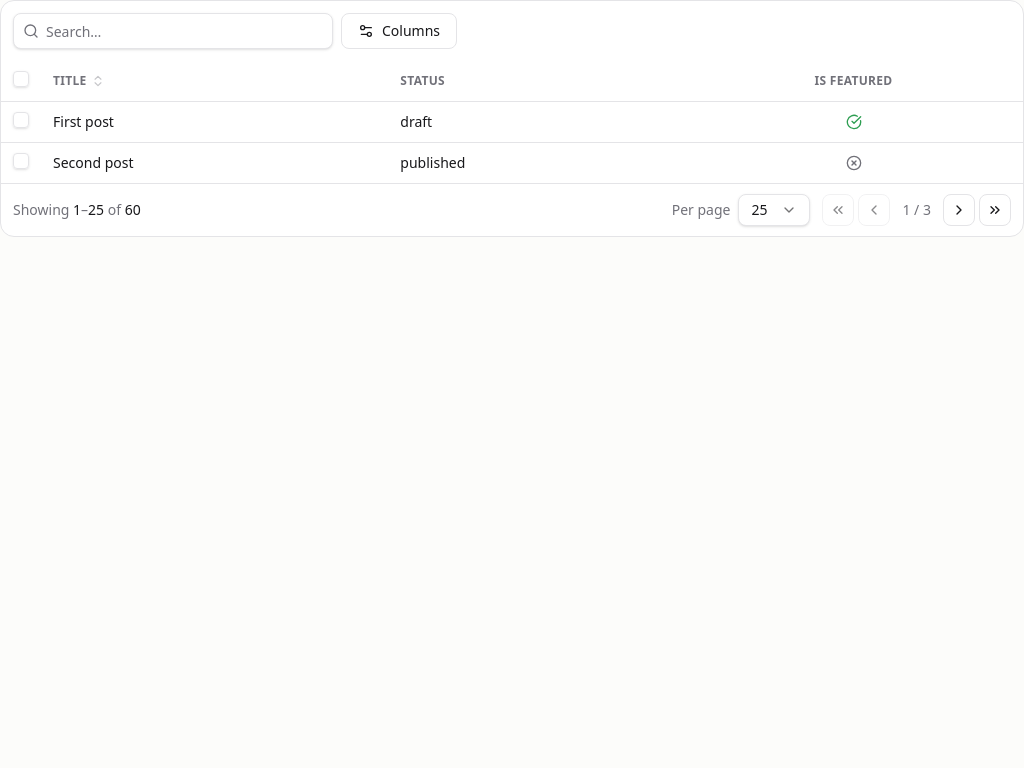
Test: row selection and bulk actions › drops the selection when the page changes
Expected: the text "First post" is shown, [53, 112, 114, 132]
Click the checkbox named "Select row 1".
click(21, 120)  # box [13, 112, 29, 128]
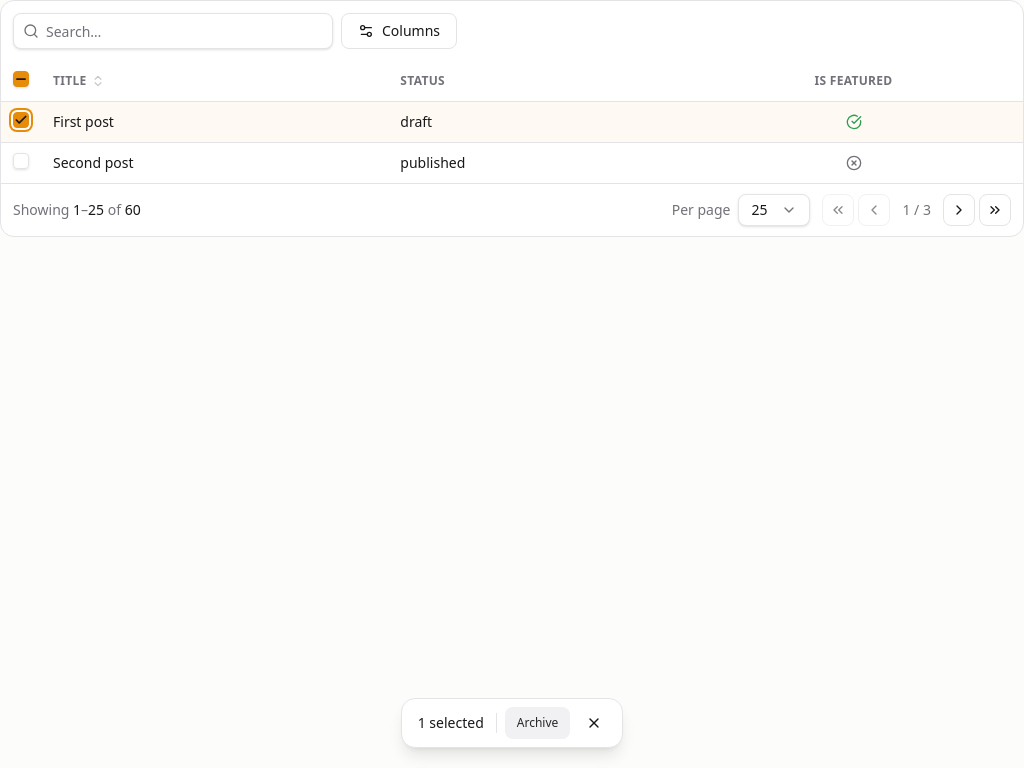
Expected: the text "1 selected" is shown, [414, 713, 488, 733]
Click the button named "Next page".
click(959, 210)  # box [943, 194, 975, 226]
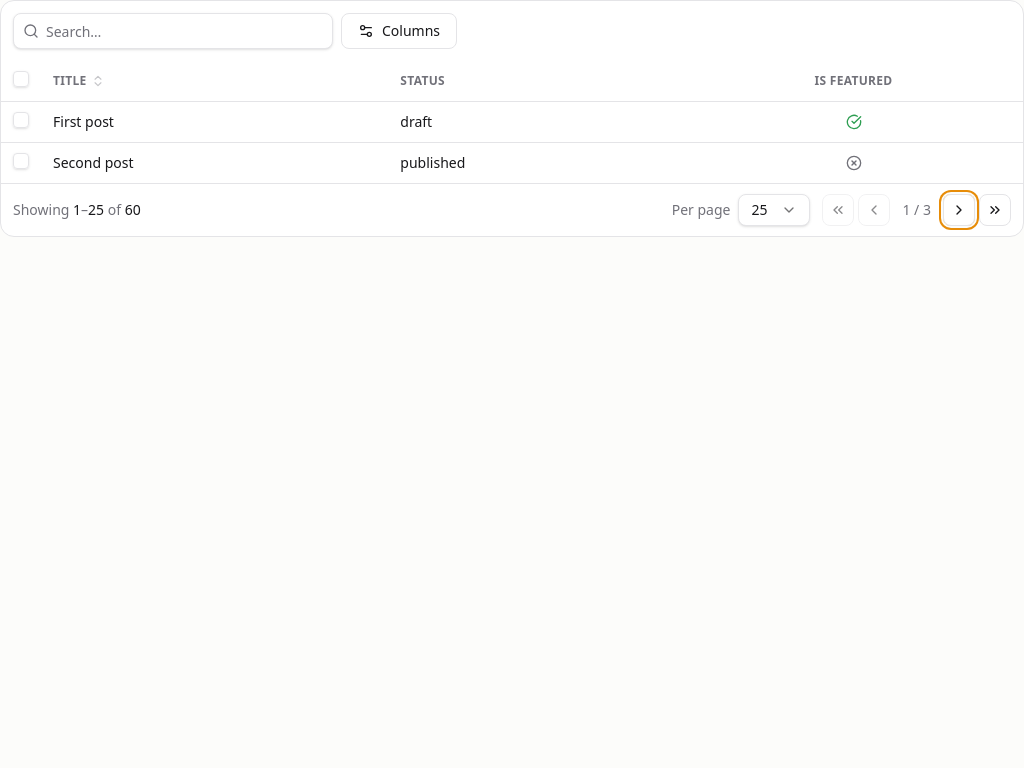
Expected: the text "1 selected" is gone
